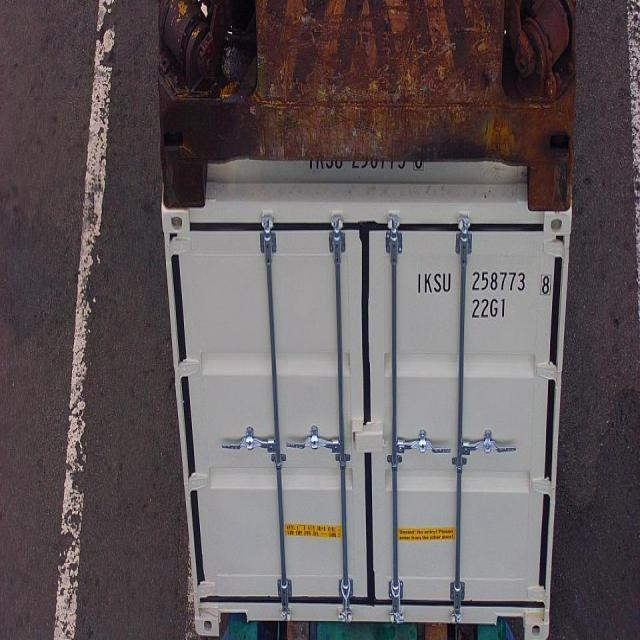ISO: (471, 297, 508, 320)
container_number: (422, 269, 548, 297)
